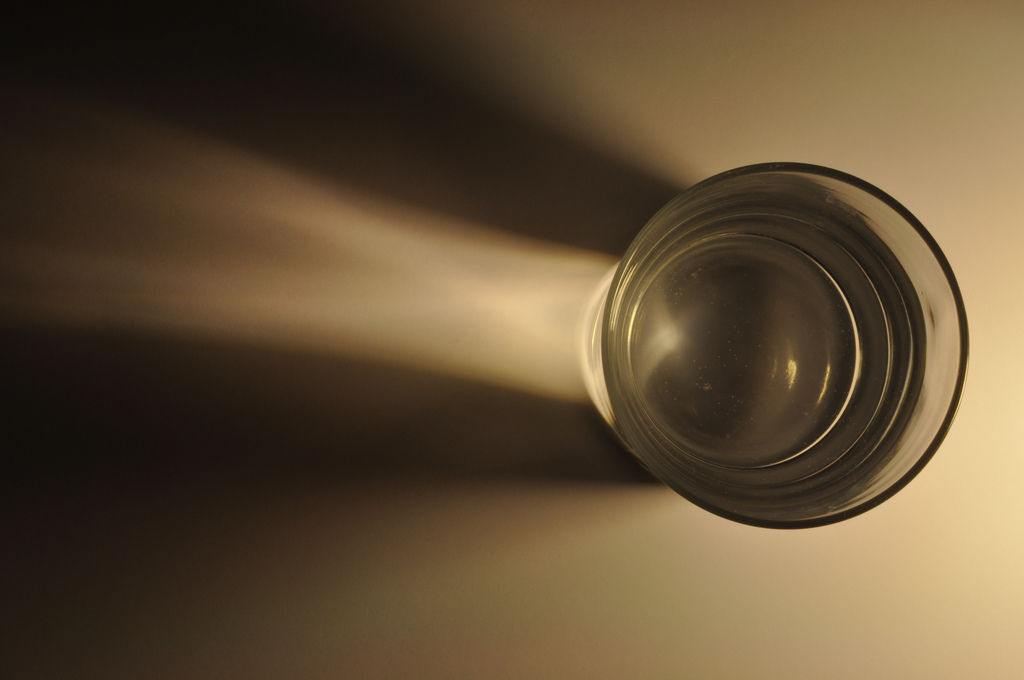glass of water: (546, 132, 980, 542)
